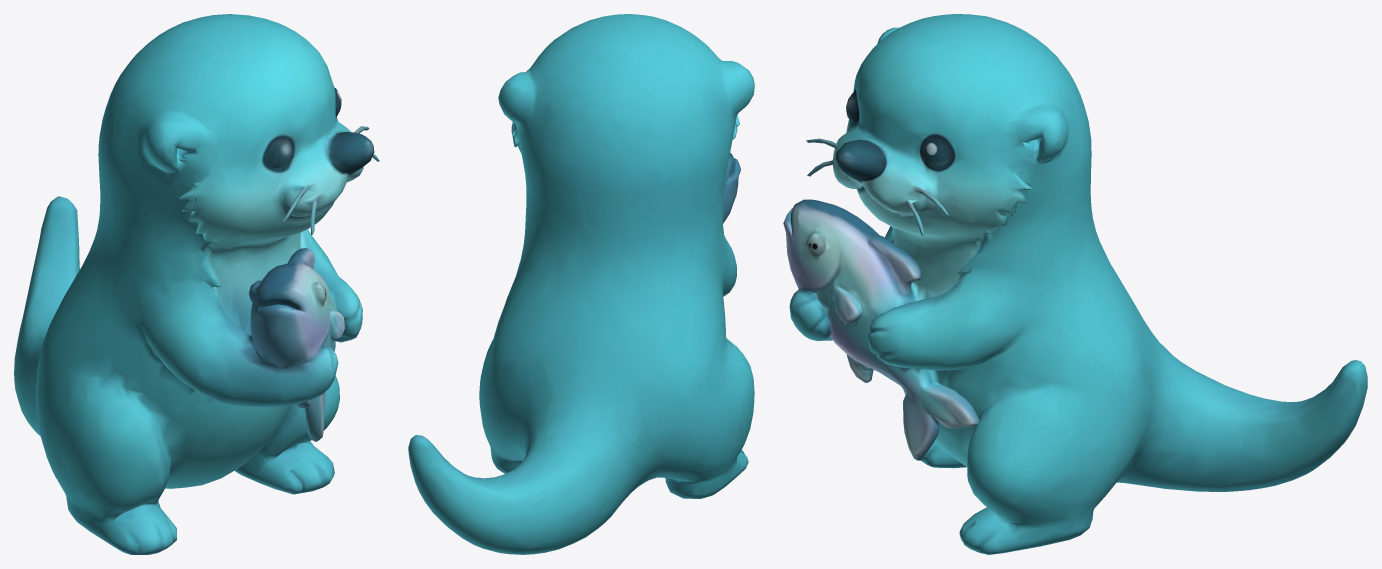
The model's file is otter.glb.
3 views of the same model, side by side, from view 1: azimuth 30°, elevation 25°; view 2: azimuth 150°, elevation 25°; view 3: azimuth 270°, elevation 25° (orthographic). The views are drawn at different scales.
Visible parts, largest first — view 1: tripo_node_020a1d28-4eec-4d43-beed-7a2aaf1e553a; view 2: tripo_node_020a1d28-4eec-4d43-beed-7a2aaf1e553a; view 3: tripo_node_020a1d28-4eec-4d43-beed-7a2aaf1e553a.
Part boxes in pixels (bbox=[...]): tripo_node_020a1d28-4eec-4d43-beed-7a2aaf1e553a: bbox=[14, 14, 379, 554]; tripo_node_020a1d28-4eec-4d43-beed-7a2aaf1e553a: bbox=[408, 14, 754, 554]; tripo_node_020a1d28-4eec-4d43-beed-7a2aaf1e553a: bbox=[783, 14, 1367, 554].
Bounding box in the file's own units: 0.5435 × 0.901 × 1.
1 material, 1 textured.
